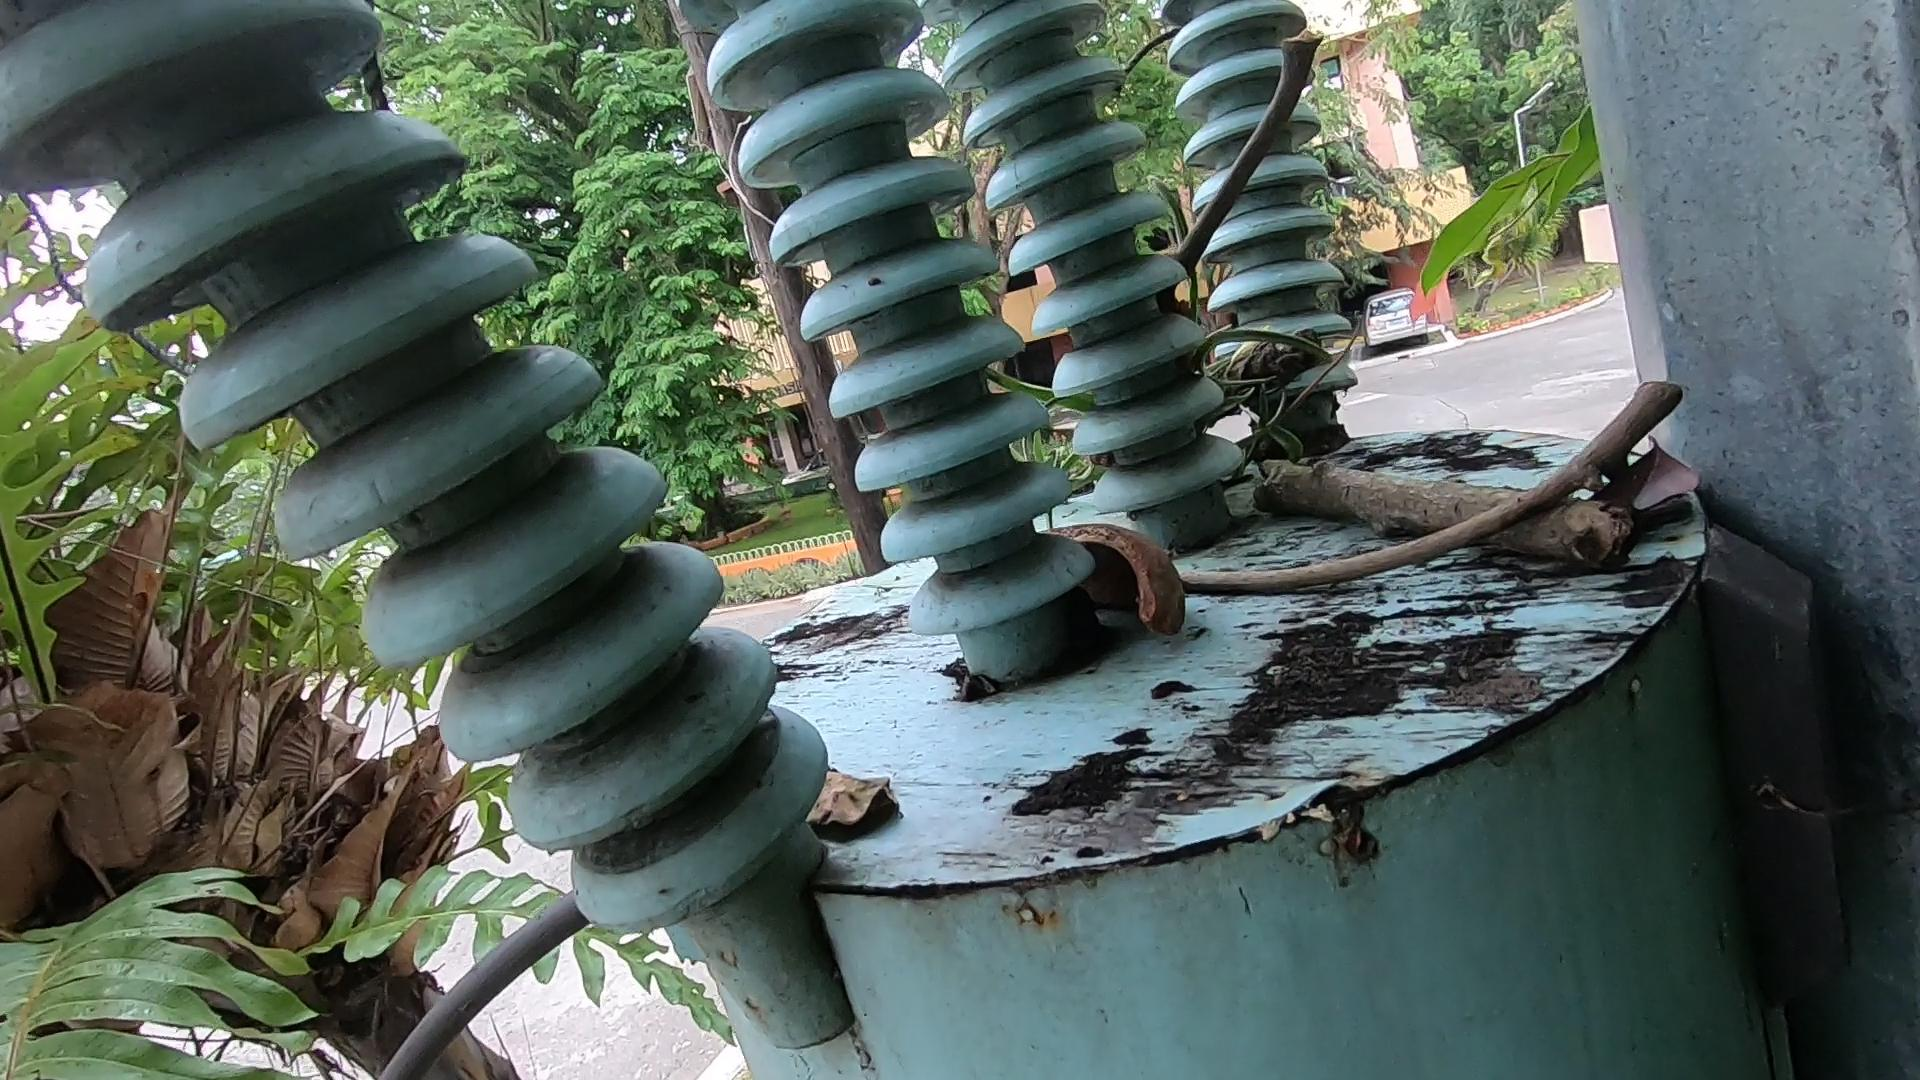branch with leaves: (1149, 299, 1615, 556), (737, 719, 943, 873)
mahogany fruit: (1033, 492, 1266, 653)
tree branch: (1137, 376, 1718, 636), (1166, 1, 1295, 349)
